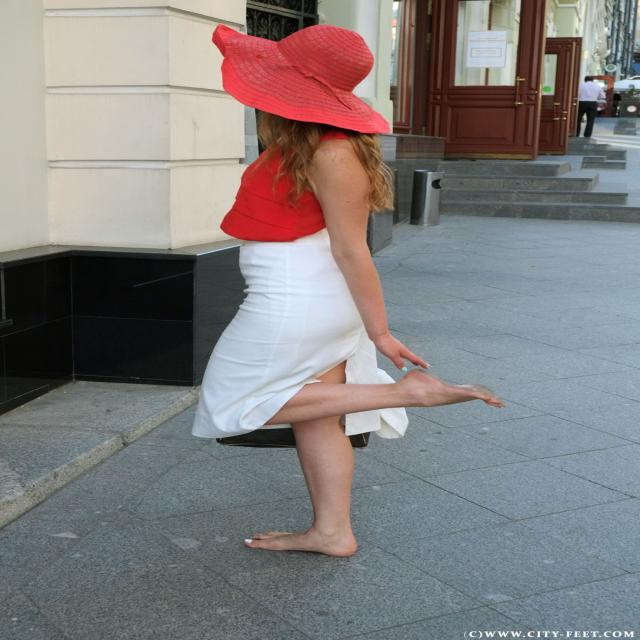Barefoots: (398, 369, 507, 408), (244, 531, 358, 557)
